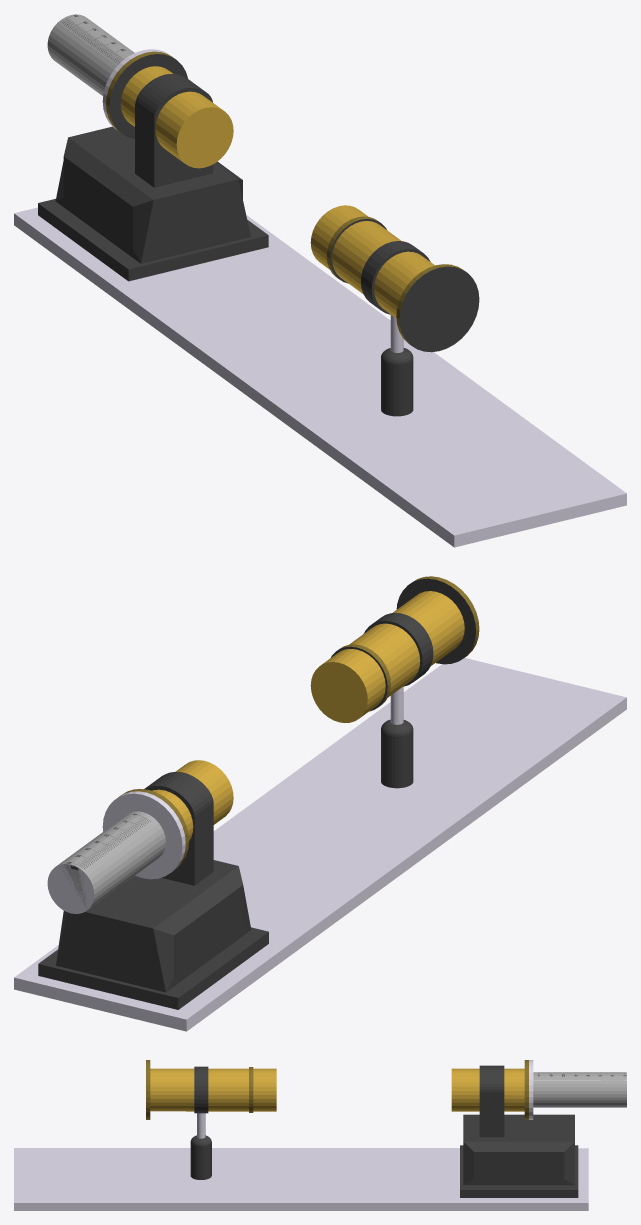
The model's file is Установка (update).fbx.
3 views of the same model, one above another, from view 1: azimuth 30°, elevation 25°; view 2: azimuth 150°, elevation 25°; view 3: azimuth 270°, elevation 25° (orthographic). The views are drawn at different scales.
Parts seen in each view (by area): view 1: Подставка, Подставка справа, Часть перед секцией, Часть после секции, Часть перед секцией (круги) v1, Шкала №2 (доп текстура), Подставка слева (нч), Часть после секции (круги), Шкала №2 (текстура), Подставка слева (вч); view 2: Подставка, Подставка справа, Часть перед секцией, Шкала №2, Шкала №2 (доп текстура), Подставка слева (нч), Часть после секции, Шкала №2 (текстура), Часть перед секцией (круги) v1, Подставка слева (вч); view 3: Подставка, Подставка справа, Часть перед секцией, Шкала №2 (доп текстура), Часть после секции, Подставка слева (нч), Шкала №2 (текстура), Подставка слева (вч), Часть перед секцией (боковая сторона) v1, Часть после секции (боковая сторона), Шкала №2, Подставка слева (сч) (+1 smaller).
Part boxes in pixels (box(x1,y1,x2,y2)): Подставка: box(14, 207, 626, 547); Подставка справа: box(38, 74, 268, 281); Часть перед секцией: box(310, 205, 434, 318); Часть после секции: box(120, 66, 233, 168); Часть перед секцией (круги) v1: box(399, 266, 479, 352); Шкала №2 (доп текстура): box(47, 17, 134, 96); Подставка слева (нч): box(381, 348, 413, 416); Часть после секции (круги): box(109, 54, 187, 138); Шкала №2 (текстура): box(58, 14, 133, 65); Подставка слева (вч): box(360, 241, 430, 314); Подставка: box(14, 658, 626, 1031); Подставка справа: box(38, 772, 268, 1009); Часть перед секцией: box(310, 591, 464, 722); Шкала №2: box(47, 791, 185, 913); Шкала №2 (доп текстура): box(56, 814, 165, 909); Подставка слева (нч): box(381, 719, 413, 788); Часть после секции: box(152, 760, 233, 840); Шкала №2 (текстура): box(58, 811, 155, 871); Часть перед секцией (круги) v1: box(396, 578, 475, 664); Подставка слева (вч): box(363, 613, 433, 686); Подставка: box(14, 1148, 588, 1210); Подставка справа: box(460, 1065, 578, 1197); Часть перед секцией: box(150, 1068, 276, 1111); Шкала №2 (доп текстура): box(533, 1081, 626, 1107); Часть после секции: box(451, 1068, 524, 1111); Подставка слева (нч): box(190, 1135, 211, 1179); Шкала №2 (текстура): box(533, 1072, 626, 1080); Подставка слева (вч): box(194, 1066, 208, 1113); Часть перед секцией (боковая сторона) v1: box(146, 1060, 150, 1119); Часть после секции (боковая сторона): box(524, 1060, 528, 1119); Шкала №2: box(529, 1060, 533, 1119); Подставка слева (сч): box(197, 1113, 205, 1138).
Size of the model in its own units: 9.06 by 9.27 by 42.67.
5 materials, 1 textured.
